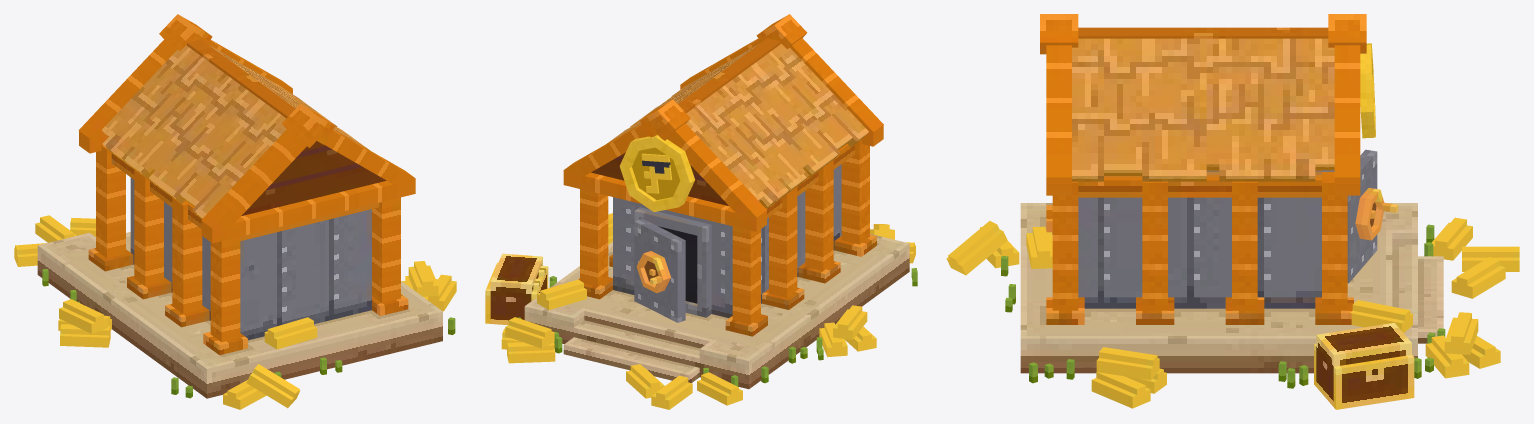
The model's file is bldg_bank.glb.
3 views of the same model, side by side, from view 1: azimuth 30°, elevation 25°; view 2: azimuth 150°, elevation 25°; view 3: azimuth 270°, elevation 25° (orthographic). The views are drawn at different scales.
Parts seen in each view (by area): view 1: House01-Local, flood01-Local, Watts04-Local, Gold01-Local, wood04-Local, Wood01-Local, Wood09-Local, Wood07-Local, Wood05-Local, Wood03-Local, Watts01-Local, Watts02-Local (+1 smaller); view 2: House01-Local, flood01-Local, Watts04-Local, Gold01-Local, Door01-Local, BOX01-Local, Wood01-Local, Wood07-Local, Coin07-Local, Wood09-Local, Wood05-Local, Watts01-Local (+9 smaller); view 3: House01-Local, Watts02-Local, flood01-Local, Gold01-Local, BOX01-Local, Wood05-Local, Watts01-Local, Door01-Local, wood02_02-Local, Wood02-Local, Grass01-Local, Grass02-Local (+2 smaller).
Part boxes in pixels (box(x1,y1,x2,y2)): House01-Local: box(88, 145, 408, 355); flood01-Local: box(37, 232, 442, 398); Watts04-Local: box(102, 45, 286, 218); Gold01-Local: box(14, 215, 456, 409); wood04-Local: box(241, 141, 386, 215); Wood01-Local: box(79, 89, 415, 243); Wood09-Local: box(201, 129, 306, 237); Wood07-Local: box(78, 39, 177, 147); Wood05-Local: box(208, 40, 415, 190); Wood03-Local: box(159, 14, 324, 147); Watts01-Local: box(187, 39, 295, 118); Watts02-Local: box(209, 45, 368, 149); House01-Local: box(578, 139, 876, 336); flood01-Local: box(524, 234, 909, 389); Watts04-Local: box(686, 43, 868, 208); Gold01-Local: box(501, 213, 915, 409); Door01-Local: box(634, 218, 685, 322); BOX01-Local: box(485, 253, 548, 325); Wood01-Local: box(563, 85, 883, 231); Wood07-Local: box(667, 123, 766, 217); Coin07-Local: box(619, 135, 694, 211); Wood09-Local: box(790, 38, 883, 132); Wood05-Local: box(563, 38, 760, 175); Watts01-Local: box(678, 38, 780, 113); House01-Local: box(1046, 170, 1353, 324); Watts02-Local: box(1072, 38, 1334, 181); flood01-Local: box(1020, 203, 1443, 373); Gold01-Local: box(946, 217, 1519, 408); BOX01-Local: box(1314, 322, 1414, 409); Wood05-Local: box(1046, 45, 1360, 177); Watts01-Local: box(1078, 27, 1328, 38); Door01-Local: box(1347, 149, 1377, 283); wood02_02-Local: box(1040, 14, 1078, 54); Wood02-Local: box(1328, 14, 1366, 53); Grass01-Local: box(1005, 242, 1433, 385); Grass02-Local: box(1001, 224, 1445, 388).
Size of the model in its own units: 75.38 by 50.31 by 89.42.
Materials: 34 (34 with a texture image).
